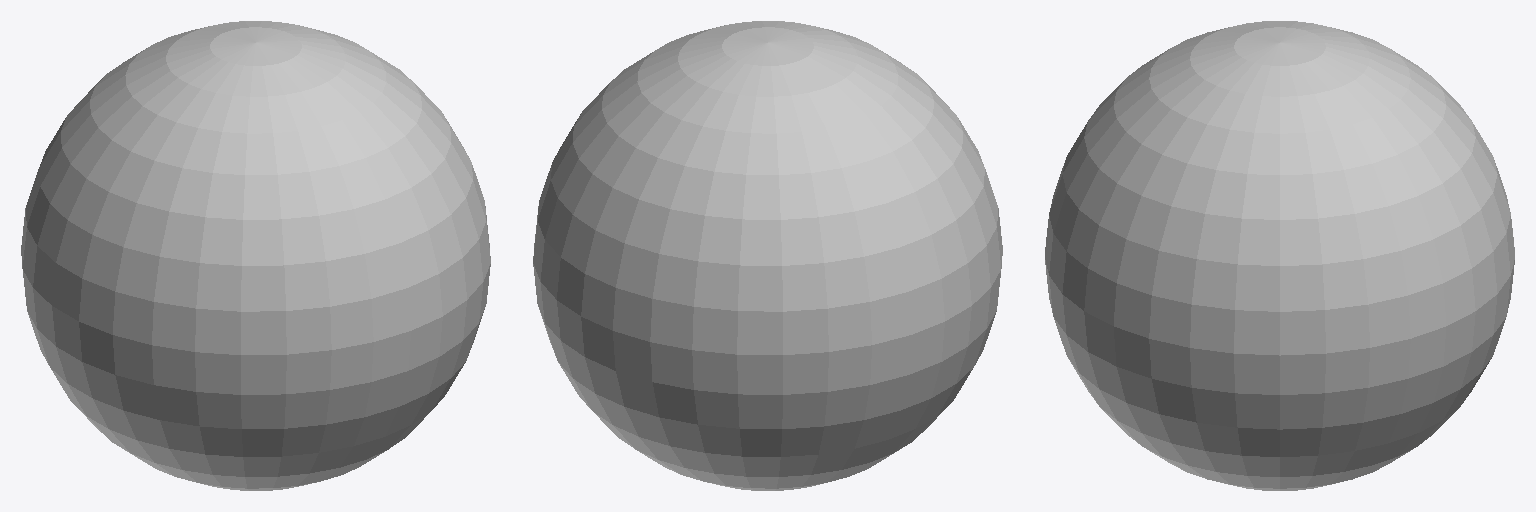
Rendered from sun.obj.
3 views of the same model, side by side, from view 1: azimuth 30°, elevation 25°; view 2: azimuth 150°, elevation 25°; view 3: azimuth 270°, elevation 25° (orthographic).
Visible parts, largest first — view 1: Sphere; view 2: Sphere; view 3: Sphere.
Part boxes in pixels (bbox=[...]): Sphere: bbox=[21, 21, 490, 490]; Sphere: bbox=[533, 21, 1002, 490]; Sphere: bbox=[1045, 21, 1514, 490].
Size of the model in its own units: 0.5 by 0.5 by 0.5.